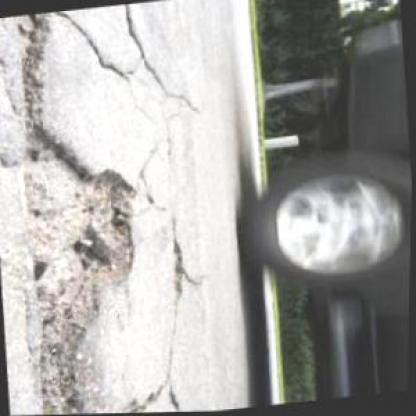pothole: (7, 109, 158, 364)
